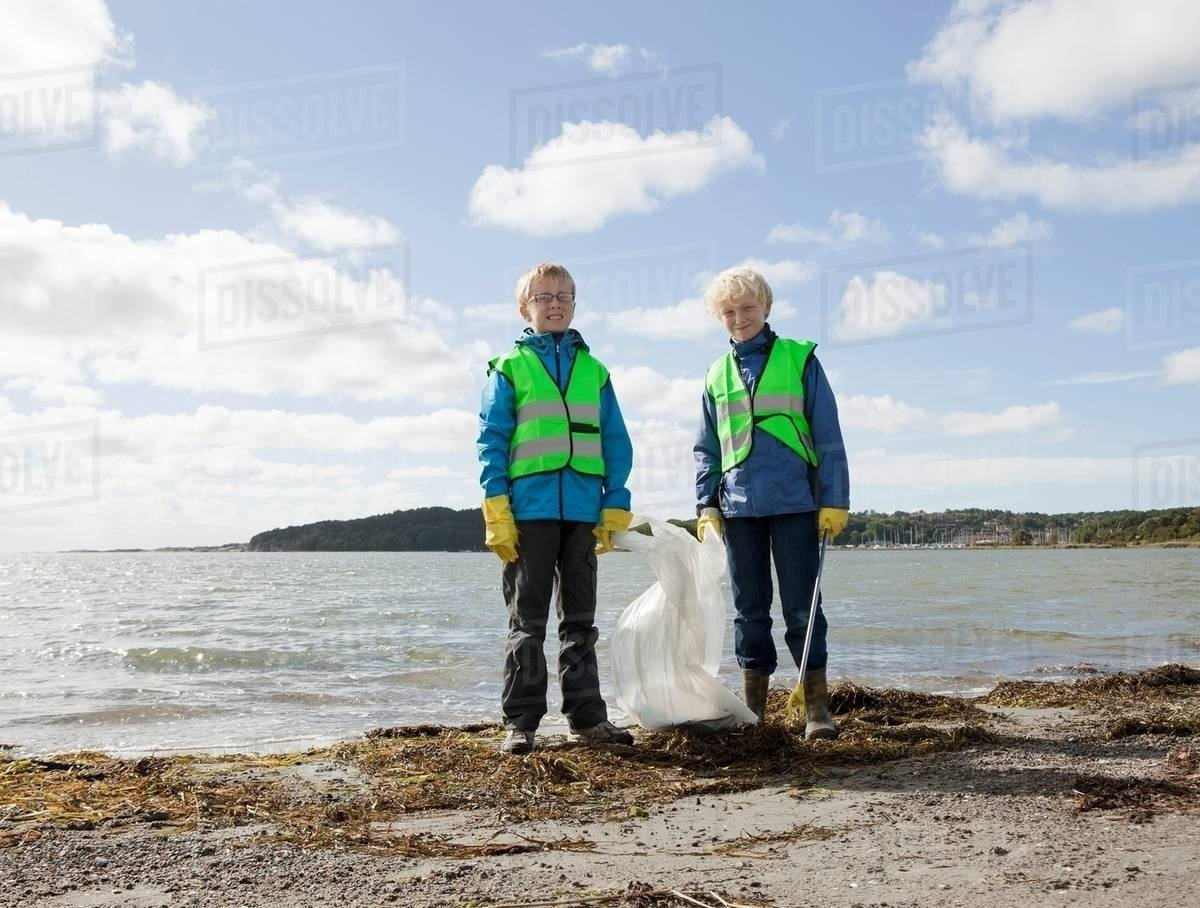person with partial safety: (685, 269, 875, 743), (472, 262, 630, 750)
safety vest: (480, 340, 616, 477), (701, 335, 822, 471)
